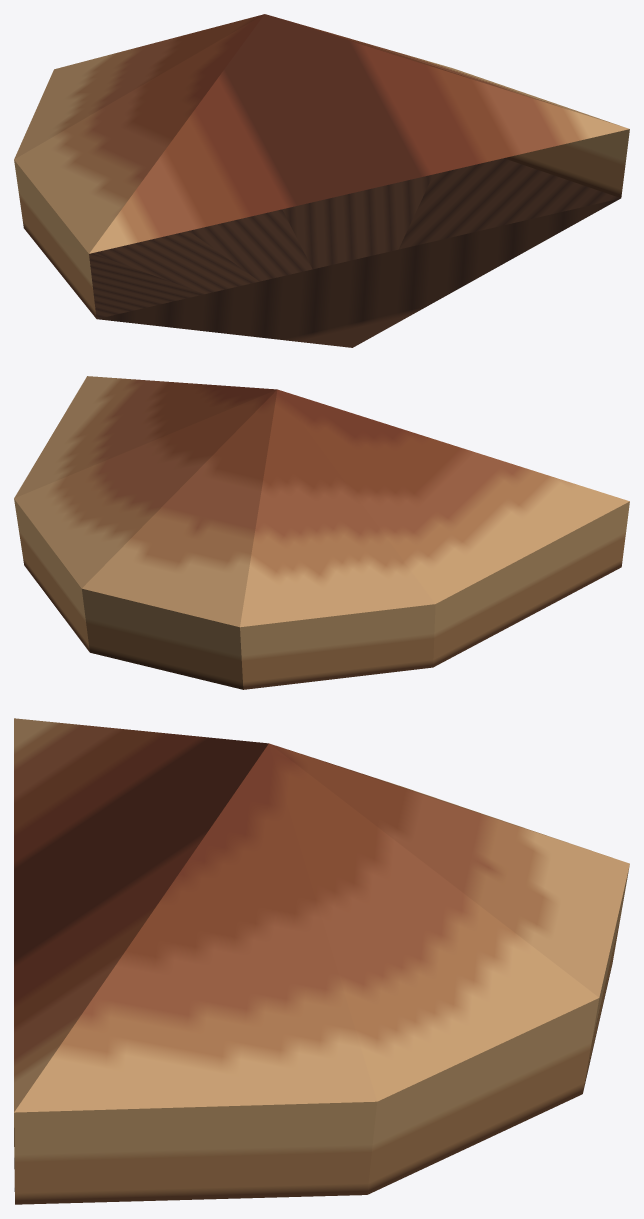
File: SM_VG15_ShelfFungus.fbx
3 renders of one model, top to bottom at view 1: azimuth 30°, elevation 25°; view 2: azimuth 150°, elevation 25°; view 3: azimuth 270°, elevation 25°, orthographic. The views are drawn at different scales.
Visible parts, largest first — view 1: VG15_Fungus; view 2: VG15_Fungus; view 3: VG15_Fungus.
Boxes of the visible parts, x1,y1,x2,y2 form: VG15_Fungus: (14, 14, 629, 347); VG15_Fungus: (14, 376, 629, 689); VG15_Fungus: (14, 718, 629, 1204).
Size of the model in its own units: 0.3996 by 0.1904 by 0.271.
